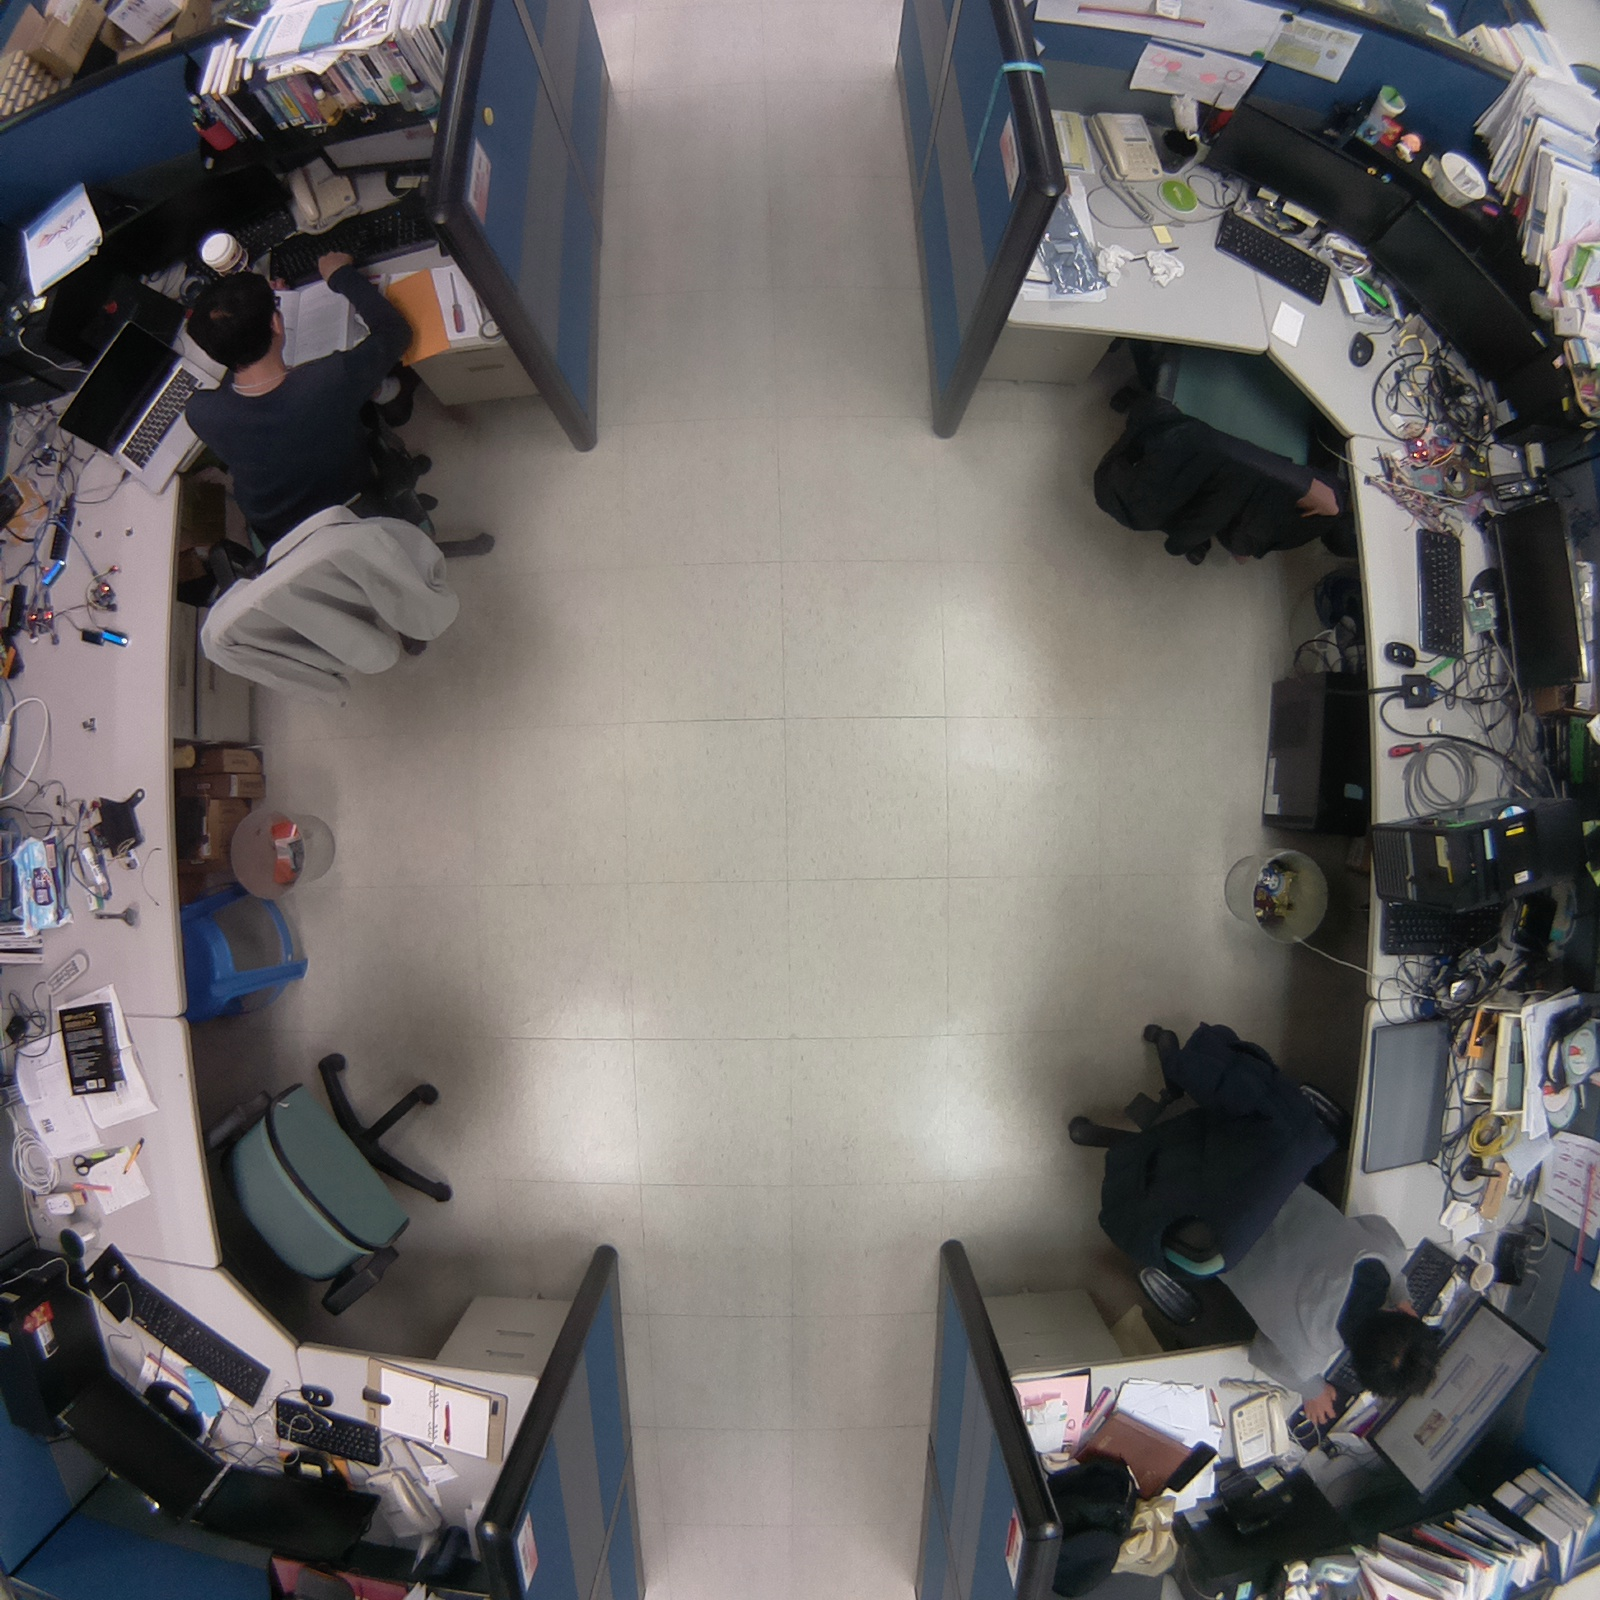chair: (177, 1048, 464, 1349), (1073, 322, 1376, 588)
sitting: (1046, 1004, 1465, 1462), (144, 226, 519, 719)
